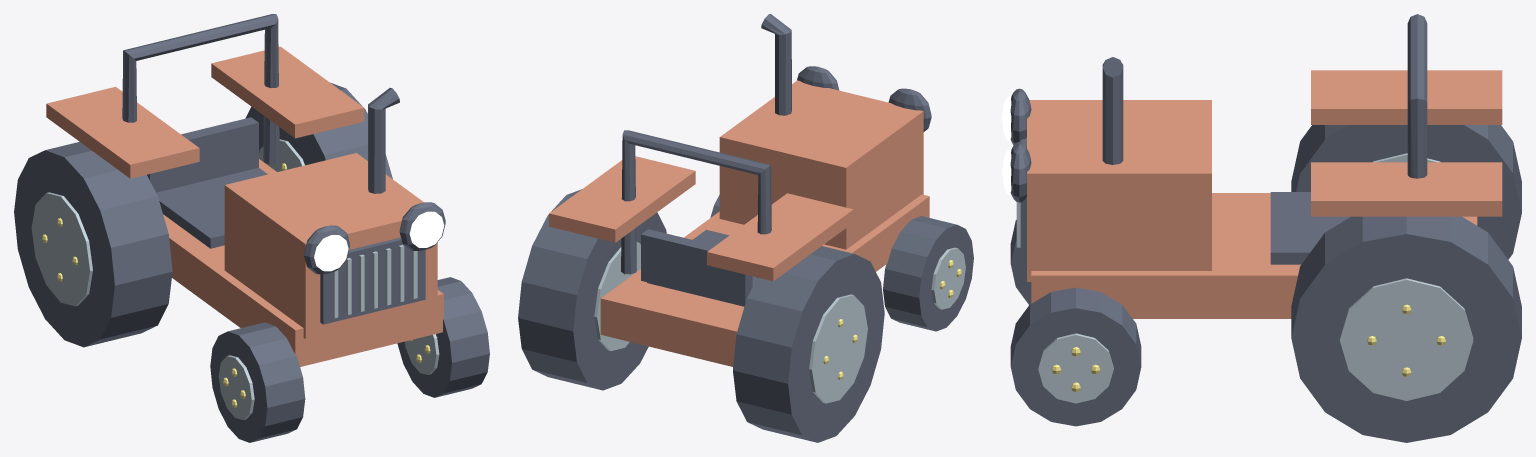
File: tractor.glb
3 renders of one model, left to right at view 1: azimuth 30°, elevation 25°; view 2: azimuth 150°, elevation 25°; view 3: azimuth 270°, elevation 25°, orthographic. The views are drawn at different scales.
Parts seen in each view (by area): view 1: paint (×4), wheel (×4), roll-bar, front-grille, seat-back, seat-pad, headlight (×2), exhaust-pipe, headlight-rim (×2); view 2: paint (×4), wheel (×3), seat-back, roll-bar, exhaust-pipe, headlight-rim (×2), seat-pad; view 3: wheel (×4), paint (×4), seat-pad, roll-bar, exhaust-pipe, headlight-rim (×2).
Boxes of the visible parts, x1=… form: paint (×4): x1=46, y1=46, x2=443, y2=366; wheel (×4): x1=14, y1=82, x2=489, y2=442; roll-bar: x1=122, y1=14, x2=279, y2=164; front-grille: x1=320, y1=237, x2=425, y2=324; seat-back: x1=147, y1=117, x2=258, y2=192; seat-pad: x1=156, y1=167, x2=267, y2=248; headlight (×2): x1=314, y1=211, x2=444, y2=271; exhaust-pipe: x1=368, y1=88, x2=399, y2=193; headlight-rim (×2): x1=304, y1=202, x2=445, y2=274; paint (×4): x1=549, y1=80, x2=929, y2=366; wheel (×3): x1=518, y1=189, x2=973, y2=442; seat-back: x1=641, y1=229, x2=752, y2=305; roll-bar: x1=621, y1=130, x2=771, y2=277; exhaust-pipe: x1=761, y1=14, x2=791, y2=115; headlight-rim (×2): x1=797, y1=66, x2=931, y2=131; seat-pad: x1=647, y1=229, x2=756, y2=306; wheel (×4): x1=1010, y1=125, x2=1521, y2=442; paint (×4): x1=1027, y1=70, x2=1502, y2=318; seat-pad: x1=1270, y1=192, x2=1350, y2=264; roll-bar: x1=1407, y1=14, x2=1427, y2=178; exhaust-pipe: x1=1102, y1=57, x2=1123, y2=164; headlight-rim (×2): x1=1010, y1=88, x2=1031, y2=202.
Size of the model in its own units: 2.1 by 2.02 by 2.8.
